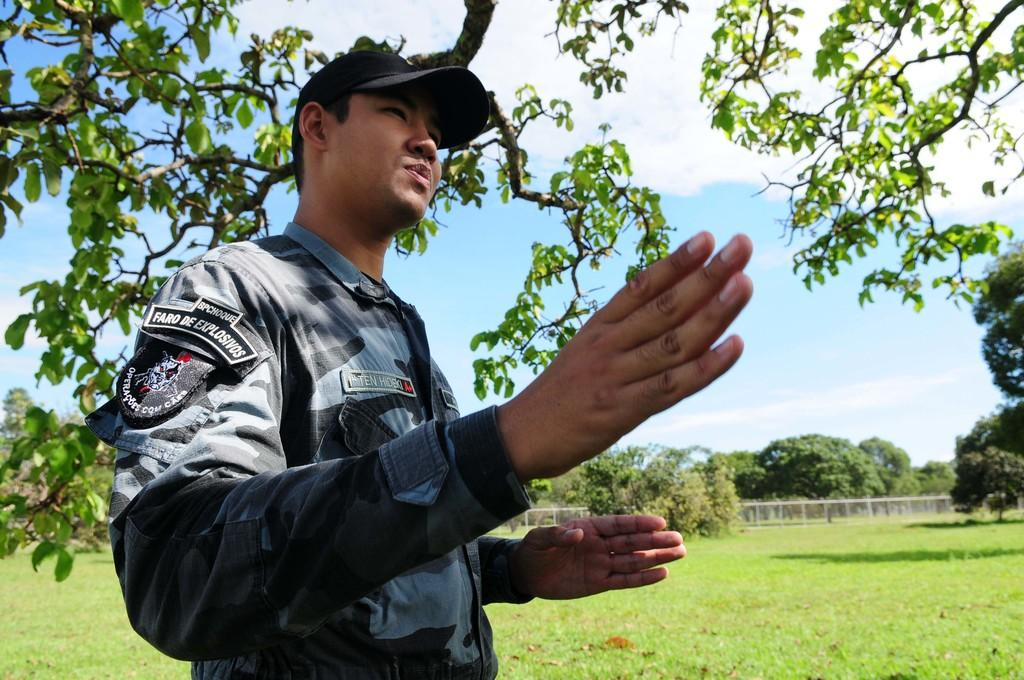Hat: (279, 44, 492, 160)
